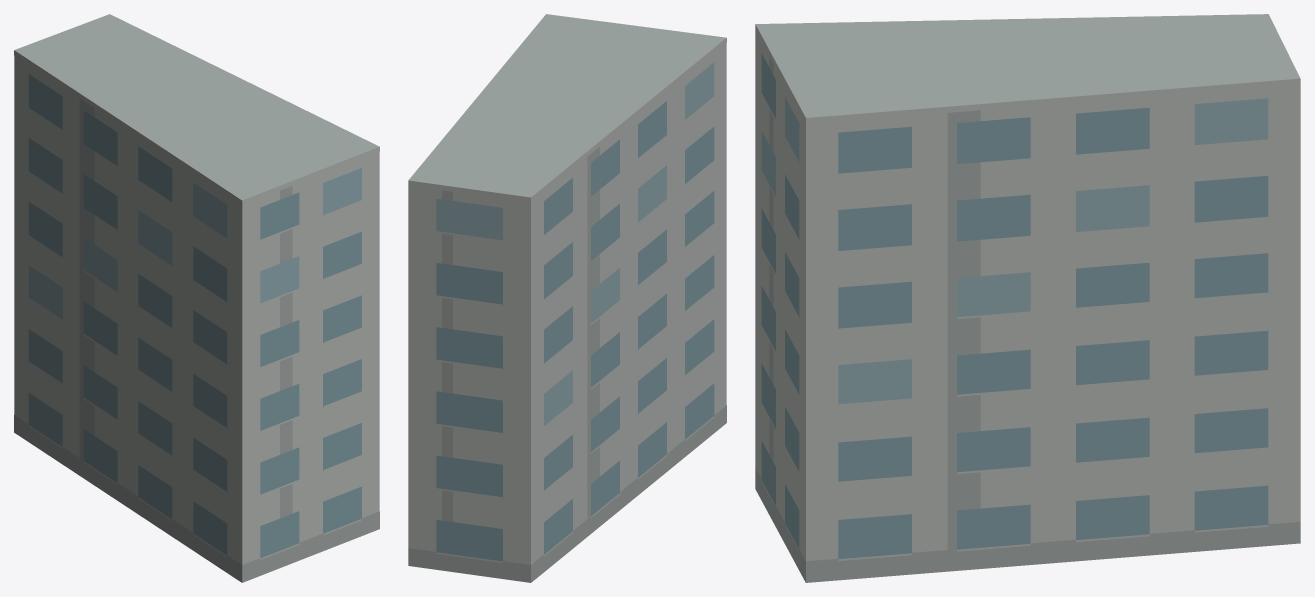
Rendered from residential-49e4ef0c-faf6-430c-8cf4-52d9aa69a5cc.glb.
The picture shows the model from 3 angles, left to right: view 1: azimuth 30°, elevation 25°; view 2: azimuth 150°, elevation 25°; view 3: azimuth 270°, elevation 25°; orthographic projection. The views are drawn at different scales.
Parts seen in each view (by area): view 1: residential-49e4ef0c-faf6-430c-8cf4-52d9aa69a5cc.tmp; view 2: residential-49e4ef0c-faf6-430c-8cf4-52d9aa69a5cc.tmp; view 3: residential-49e4ef0c-faf6-430c-8cf4-52d9aa69a5cc.tmp.
Part boxes in pixels (x1,y1,x2,y2): residential-49e4ef0c-faf6-430c-8cf4-52d9aa69a5cc.tmp: (14,14,379,582); residential-49e4ef0c-faf6-430c-8cf4-52d9aa69a5cc.tmp: (408,14,726,582); residential-49e4ef0c-faf6-430c-8cf4-52d9aa69a5cc.tmp: (755,14,1300,582).
Size of the model in its own units: 8.79 by 18.3 by 19.46.
